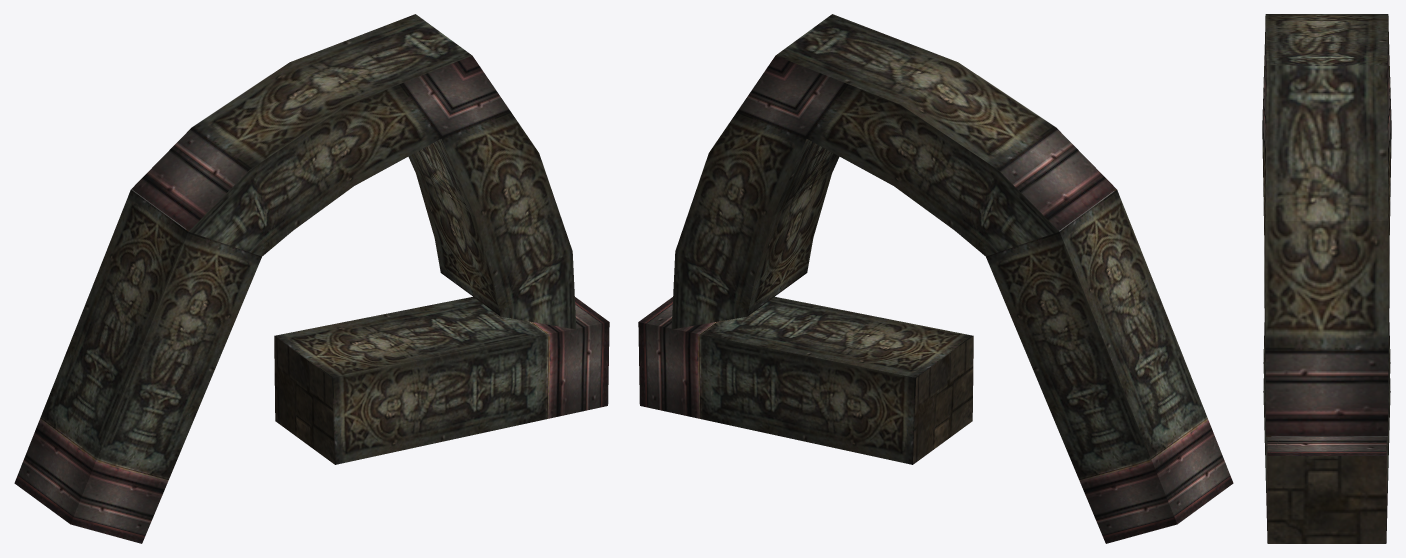
Rendered from gate-destr_05.FBX.
The picture shows the model from 3 angles, left to right: view 1: azimuth 30°, elevation 25°; view 2: azimuth 150°, elevation 25°; view 3: azimuth 270°, elevation 25°; orthographic projection. The views are drawn at different scales.
Parts seen in each view (by area): view 1: gate-destr_05; view 2: gate-destr_05; view 3: gate-destr_05.
Part boxes in pixels (x1,y1,x2,y2): gate-destr_05: [14, 14, 609, 543]; gate-destr_05: [638, 14, 1233, 543]; gate-destr_05: [1262, 14, 1391, 543].
Size of the model in its own units: 2.81 by 2.03 by 0.5513.
